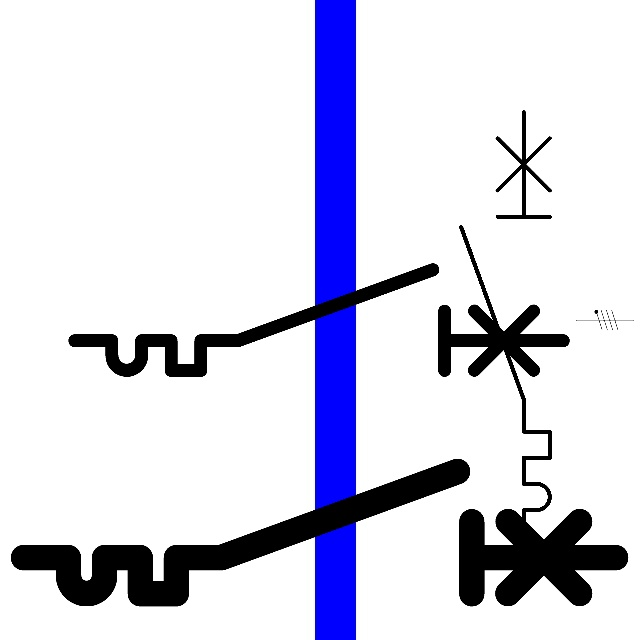interruptor_termomagnetico: (8, 456, 631, 609), (62, 257, 575, 383), (450, 101, 561, 554)
